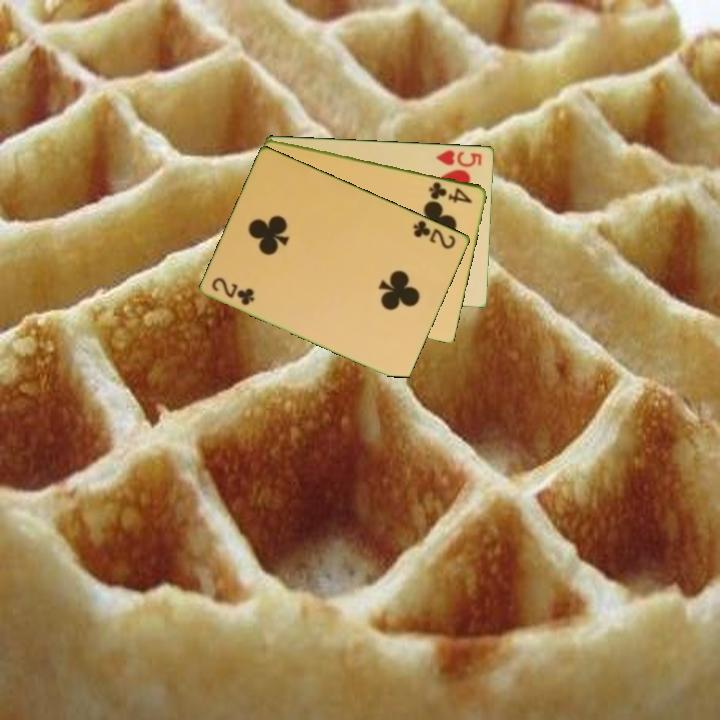2c: (208, 273, 258, 308), (410, 217, 459, 252)
4c: (425, 178, 475, 206)
5h: (433, 146, 485, 170)
